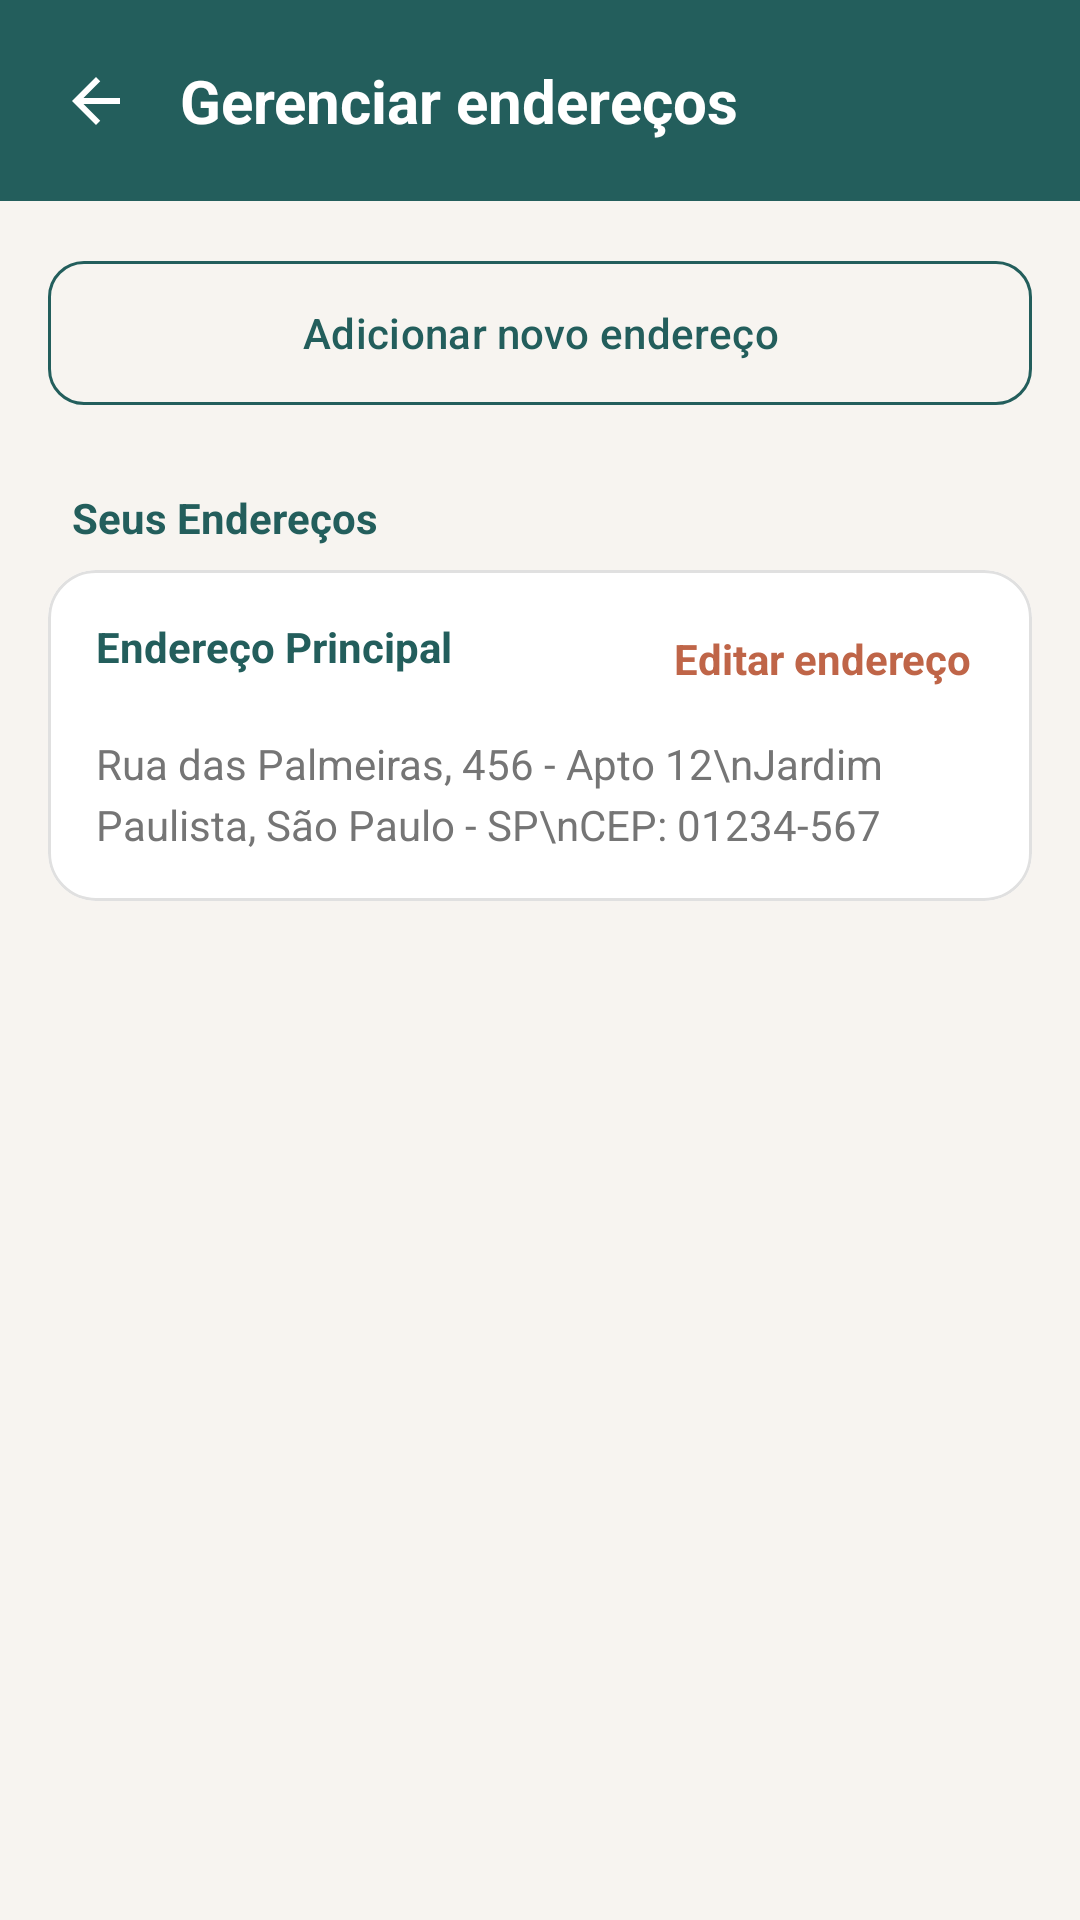

Screen size 1080px×1920px. Icon name, then its center in pixels as point (x, y):
Voltar: point (96, 101)
